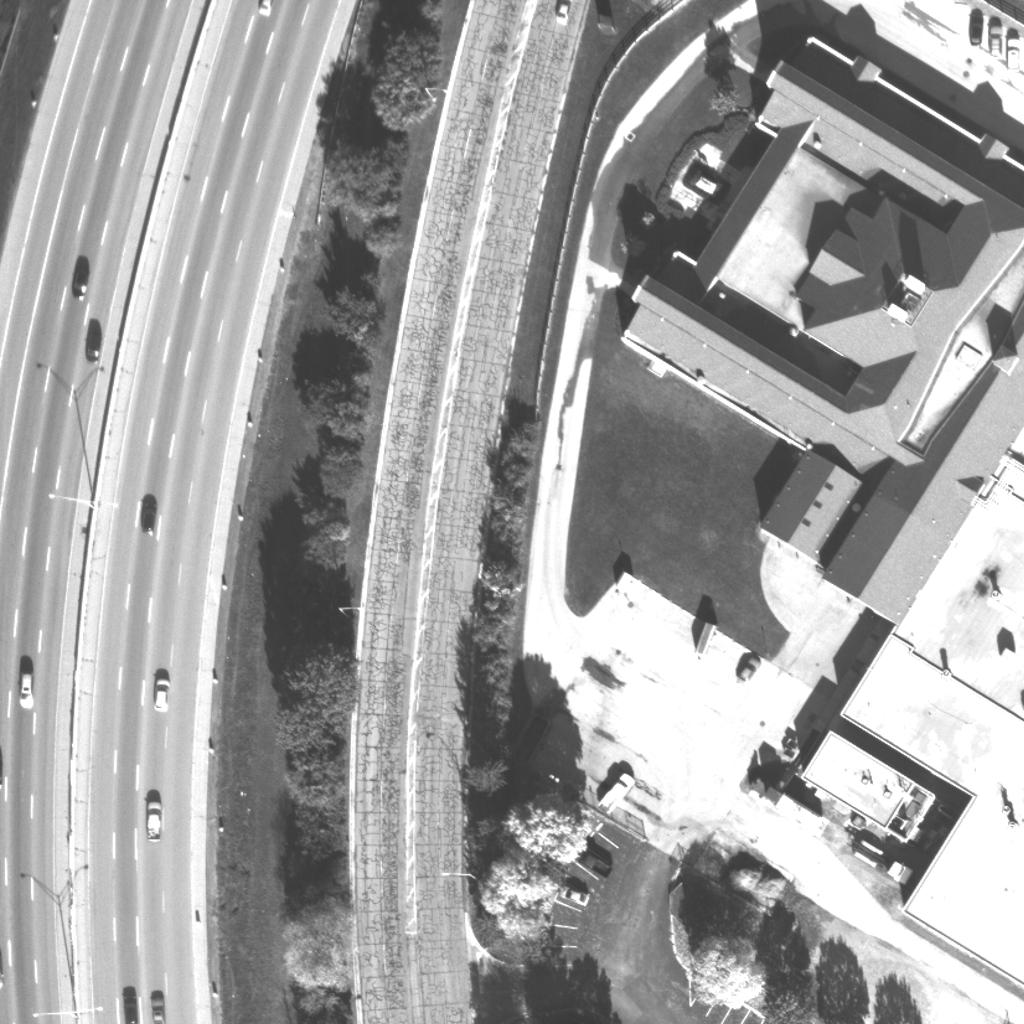car: (958, 14, 992, 48), (978, 25, 1012, 59), (63, 263, 97, 297), (64, 263, 98, 297), (76, 325, 110, 359), (76, 326, 110, 360), (131, 496, 165, 530), (730, 651, 764, 685), (7, 671, 41, 705), (143, 676, 177, 710), (601, 771, 635, 805), (135, 801, 169, 835), (574, 842, 608, 876), (555, 876, 589, 910), (112, 992, 146, 1024), (995, 37, 1024, 71), (139, 997, 173, 1024), (545, 0, 579, 25), (545, 0, 579, 24), (248, 0, 282, 17)
